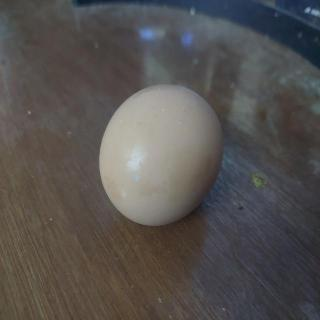Telur: (97, 83, 233, 228)
